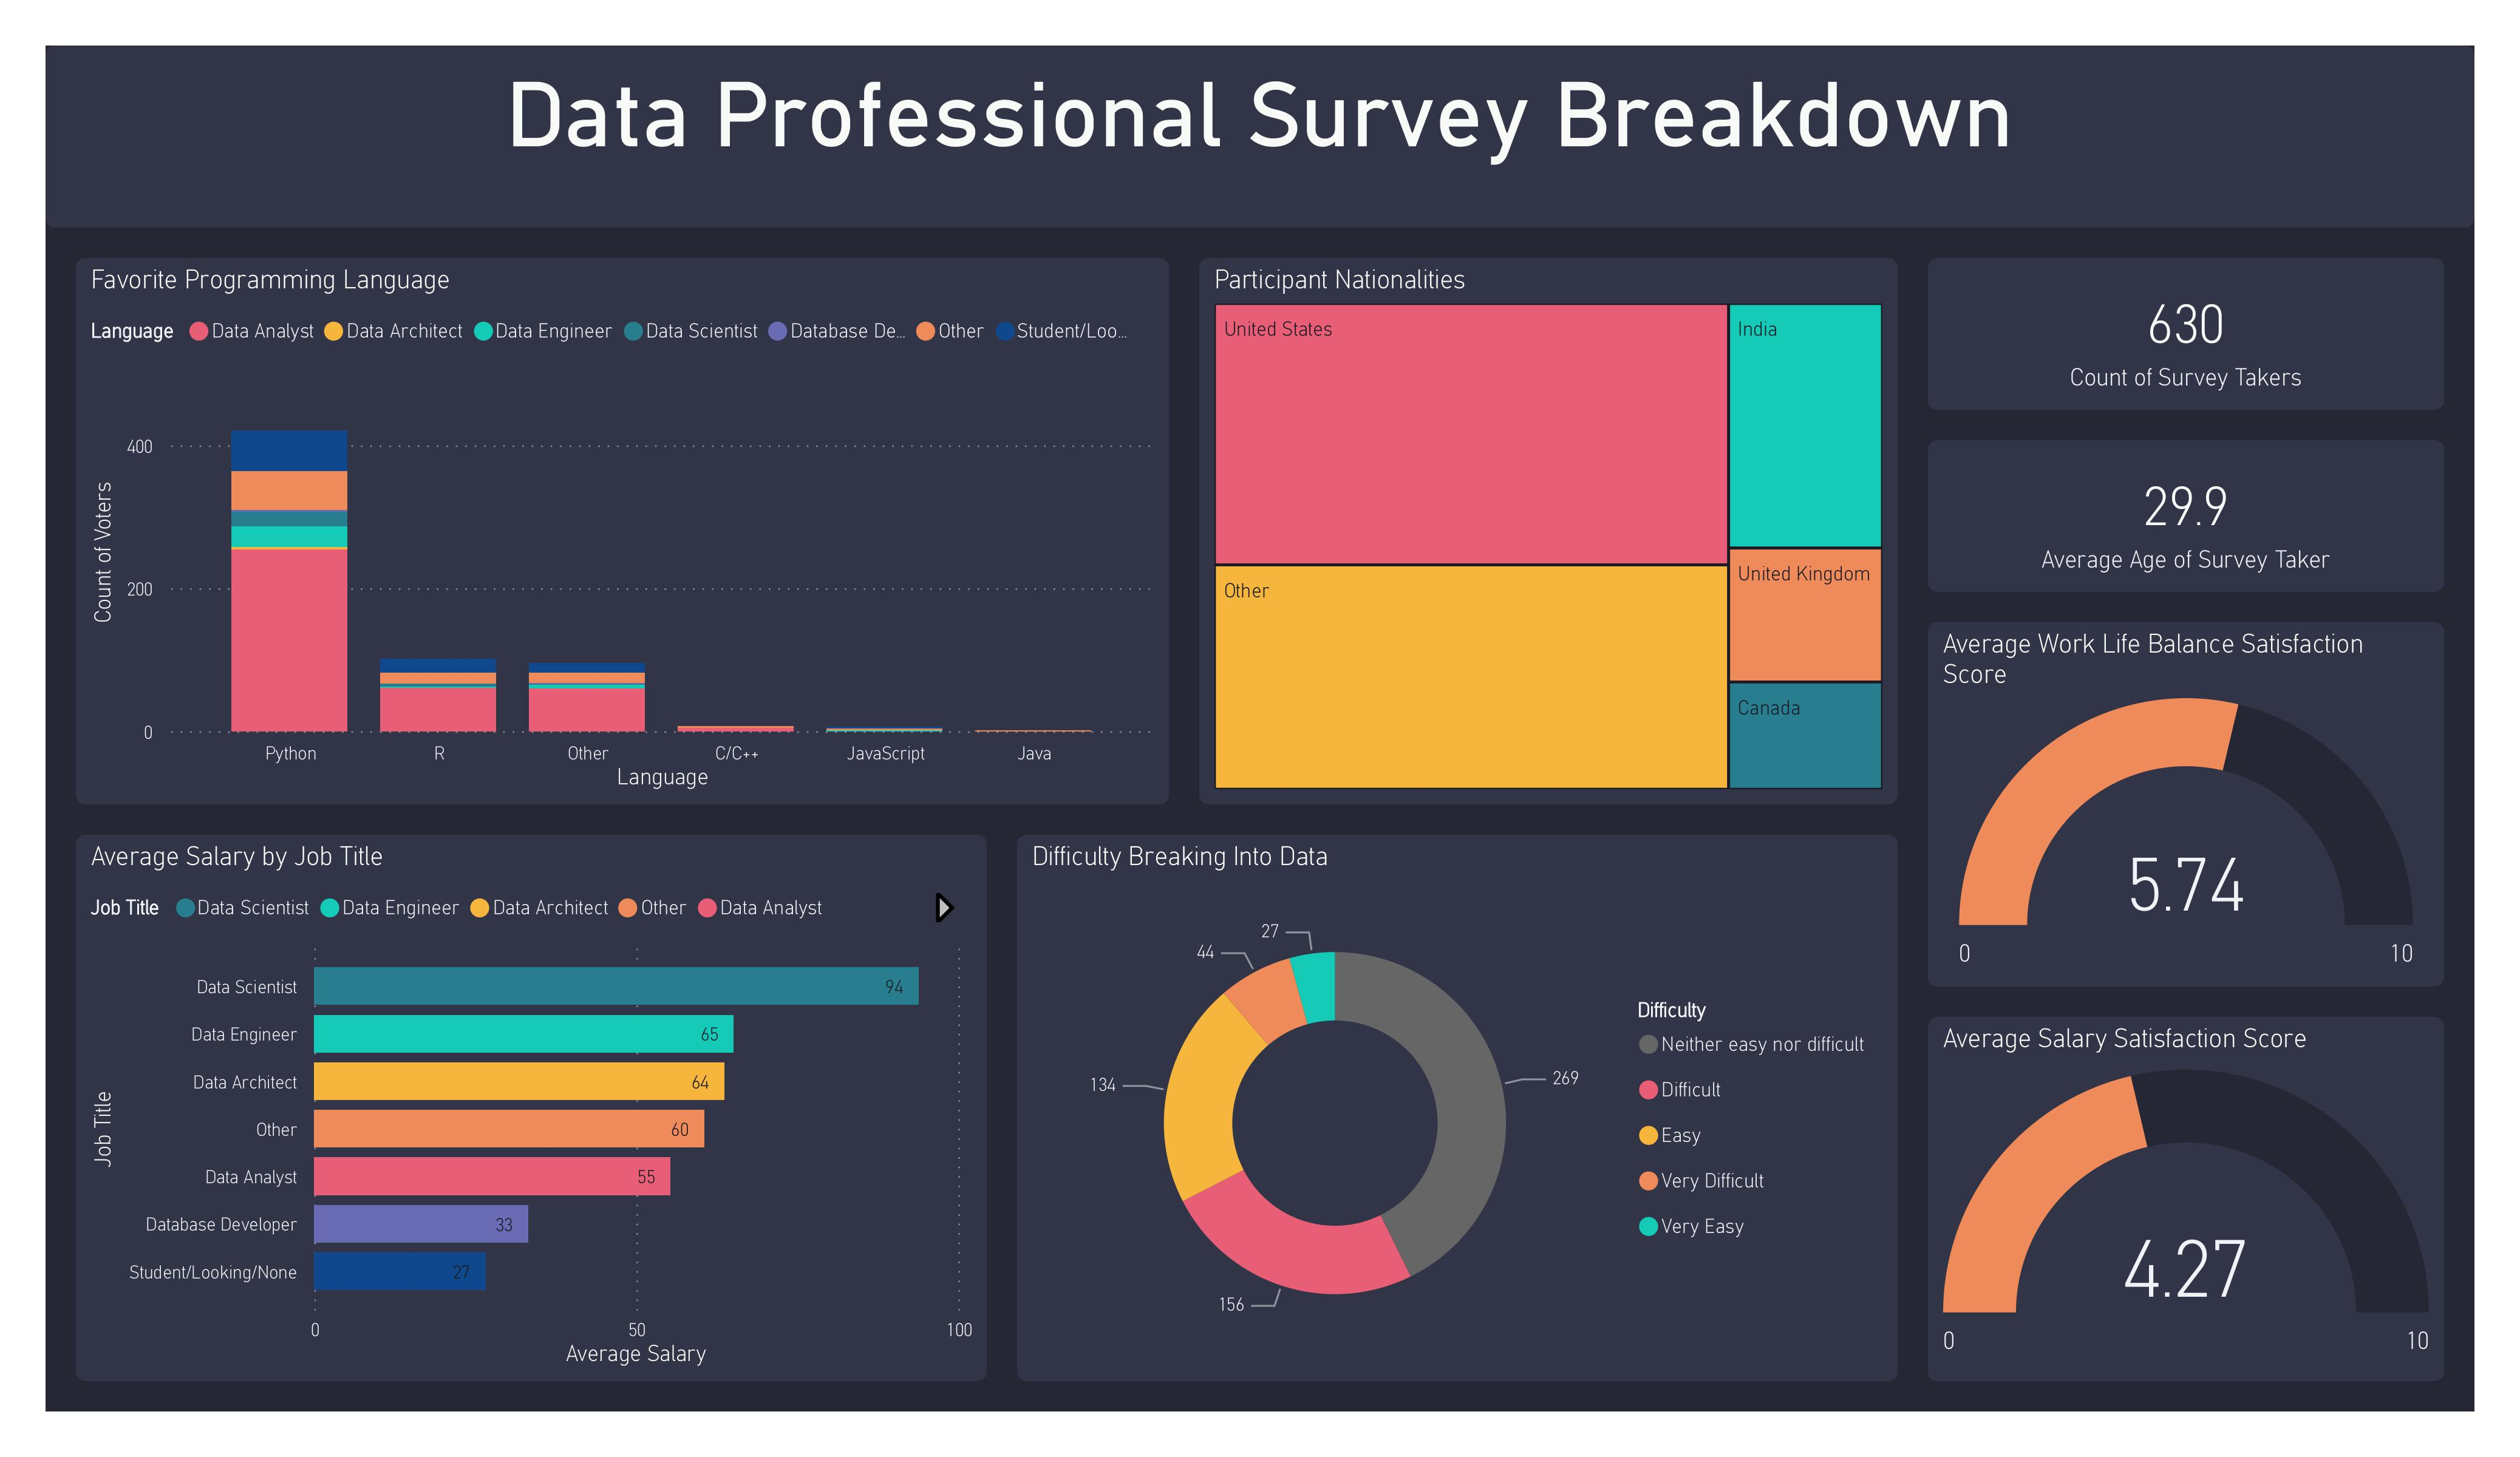

The dashboard page shown, as its layout file describes it:
{"tool":"powerbi","page":{"name":"Page 1","canvas":[1280,720],"ordinal":0},"visuals":[{"type":"textbox","box":[0,0,1280,96],"z":0},{"type":"card","fields":{"Values":["Count(Data Professional Survey.Unique ID)"]},"box":[992,112,272,80],"z":1000},{"type":"card","fields":{"Values":["Avg(Data Professional Survey.Q10 - Current Age)"]},"box":[992,208,272,80],"z":2000},{"type":"barChart","title":"Average Salary by Job Title","fields":{"Category":["Data Professional Survey.Q1 - Which Title Best Fits your Current Role?.1"],"Y":["Avg(Data Professional Survey.Average Salary)"],"Series":["Data Professional Survey.Q1 - Which Title Best Fits your Current Role?.1"]},"box":[16,416,480,288],"z":3000},{"type":"columnChart","title":"Favorite Programming Language","fields":{"Category":["Data Professional Survey.Q5 - Favorite Programming Language.1"],"Y":["CountNonNull(Data Professional Survey.Unique ID)"],"Series":["Data Professional Survey.Q1 - Which Title Best Fits your Current Role?.1"]},"box":[16,112,576,288],"z":4000},{"type":"treemap","title":"Participant Nationalities","fields":{"Group":["Data Professional Survey.Q11 - Which Country do you live in?.1"],"Values":["CountNonNull(Data Professional Survey.Q11 - Which Country do you live in?.1)"]},"box":[608,112,368,288],"z":5000},{"type":"gauge","title":"Average Work Life Balance Satisfaction Score","fields":{"Y":["Avg(Data Professional Survey.Q6 - How Happy are you in your Current Position with the following? (Work/Life Balance))"],"MinValue":["Min(Data Professional Survey.Q6 - How Happy are you in your Current Position with the following? (Work/Life Balance))1"],"MaxValue":["Max(Data Professional Survey.Q6 - How Happy are you in your Current Position with the following? (Work/Life Balance))2"]},"box":[992,304,272,192],"z":6000},{"type":"gauge","title":"Average Salary Satisfaction Score","fields":{"Y":["Avg(Data Professional Survey.Q6 - How Happy are you in your Current Position with the following? (Salary))"],"MinValue":["Min(Data Professional Survey.Q6 - How Happy are you in your Current Position with the following? (Salary))"],"MaxValue":["Max(Data Professional Survey.Q6 - How Happy are you in your Current Position with the following? (Salary))1"]},"box":[992,512,272,192],"z":7000},{"type":"donutChart","title":"Difficulty Breaking Into Data","fields":{"Category":["Data Professional Survey.Q7 - How difficult was it for you to break into Data?"],"Y":["CountNonNull(Data Professional Survey.Q7 - How difficult was it for you to break into Data?)"]},"box":[512,416,464,288],"z":7001}]}

Visuals, with their boxes in screenshot pixels (x1, y1, x2, y2):
textbox: <region>46, 46, 2474, 228</region>
card - Count(Data Professional Survey.Unique ID): <region>1928, 258, 2444, 410</region>
card - Avg(Data Professional Survey.Q10 - Current Age): <region>1928, 440, 2444, 592</region>
"Average Salary by Job Title" barChart: <region>76, 835, 987, 1381</region>
"Favorite Programming Language" columnChart: <region>76, 258, 1169, 804</region>
"Participant Nationalities" treemap: <region>1199, 258, 1898, 804</region>
"Average Work Life Balance Satisfaction Score" gauge: <region>1928, 622, 2444, 987</region>
"Average Salary Satisfaction Score" gauge: <region>1928, 1017, 2444, 1381</region>
"Difficulty Breaking Into Data" donutChart: <region>1017, 835, 1898, 1381</region>
